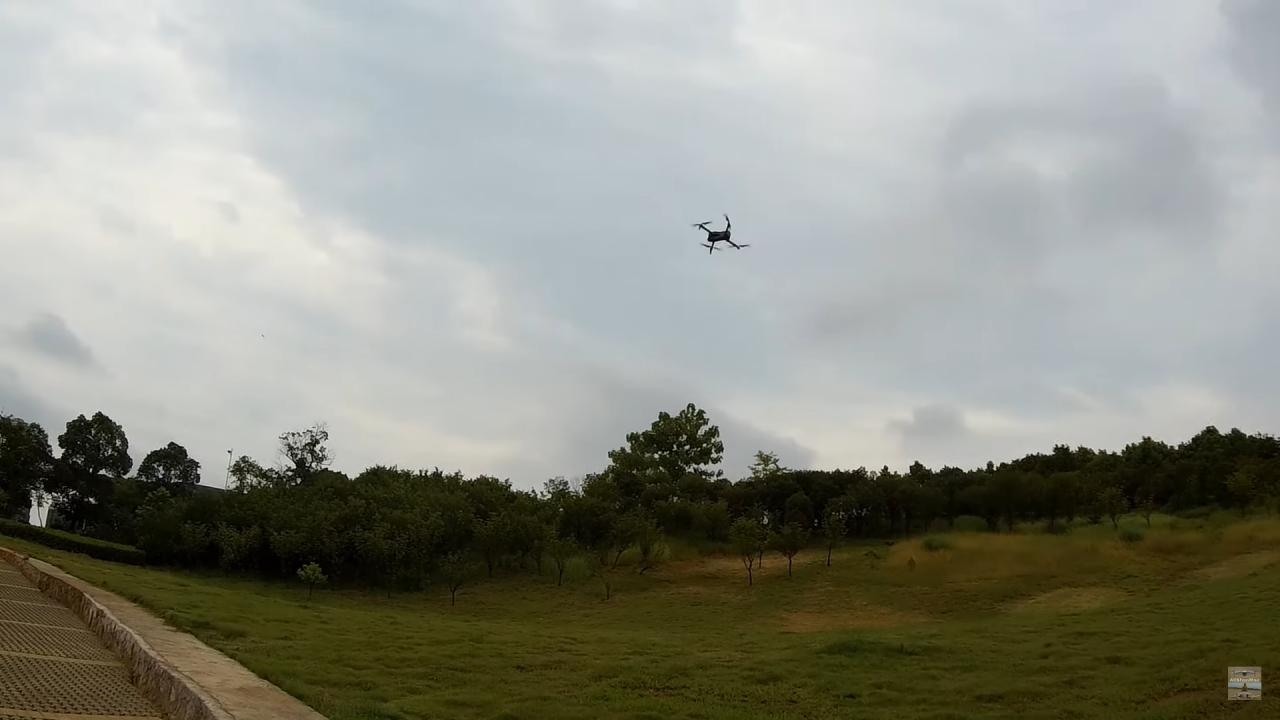Drone: (681, 204, 757, 262)
